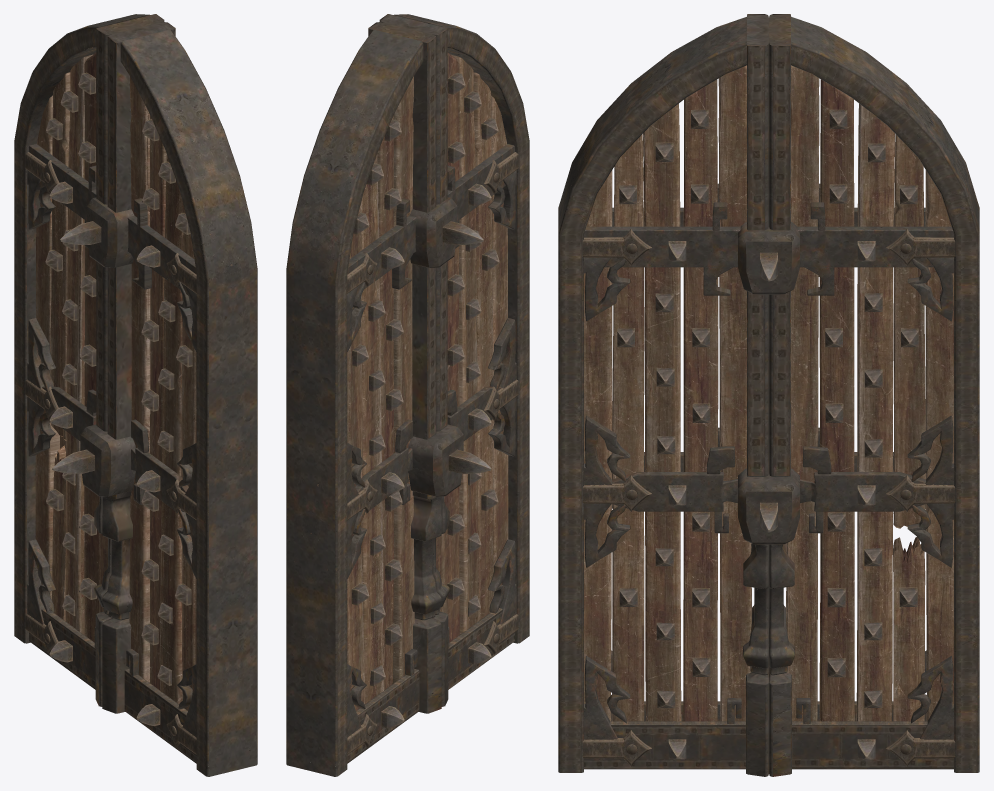
3 renders of one model, left to right at view 1: azimuth 30°, elevation 25°; view 2: azimuth 150°, elevation 25°; view 3: azimuth 270°, elevation 25°, orthographic. The views are drawn at different scales.
Visible parts, largest first — view 1: SM_DR_Gateway_Doors_01_LOD0; view 2: SM_DR_Gateway_Doors_01_LOD0; view 3: SM_DR_Gateway_Doors_01_LOD0.
Part boxes in pixels (bbox=[...]): SM_DR_Gateway_Doors_01_LOD0: bbox=[14, 14, 257, 776]; SM_DR_Gateway_Doors_01_LOD0: bbox=[286, 14, 529, 776]; SM_DR_Gateway_Doors_01_LOD0: bbox=[558, 14, 979, 776].
Size of the model in its own units: 1.33 by 5.16 by 2.7.
4 materials, 4 textured.
